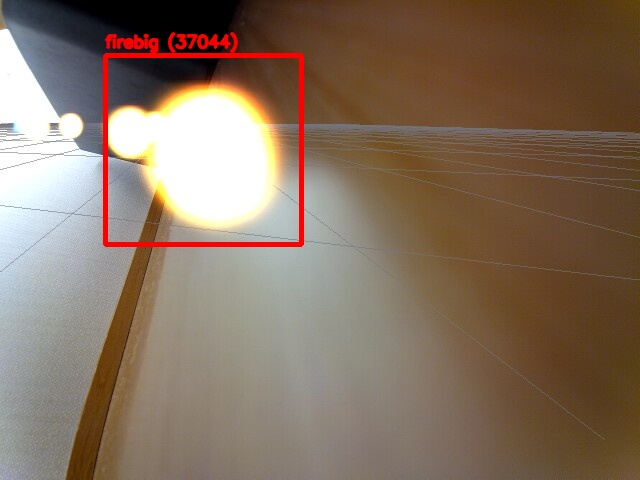firebig: (105, 55, 301, 244)
